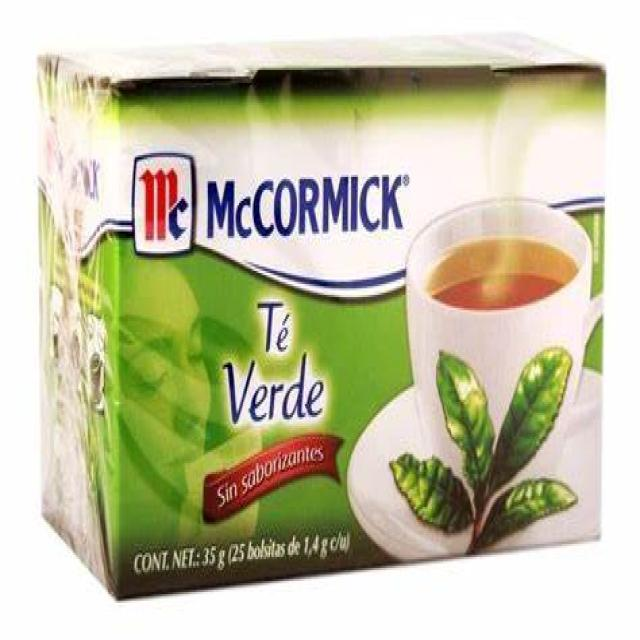Caja: (31, 31, 617, 600)
